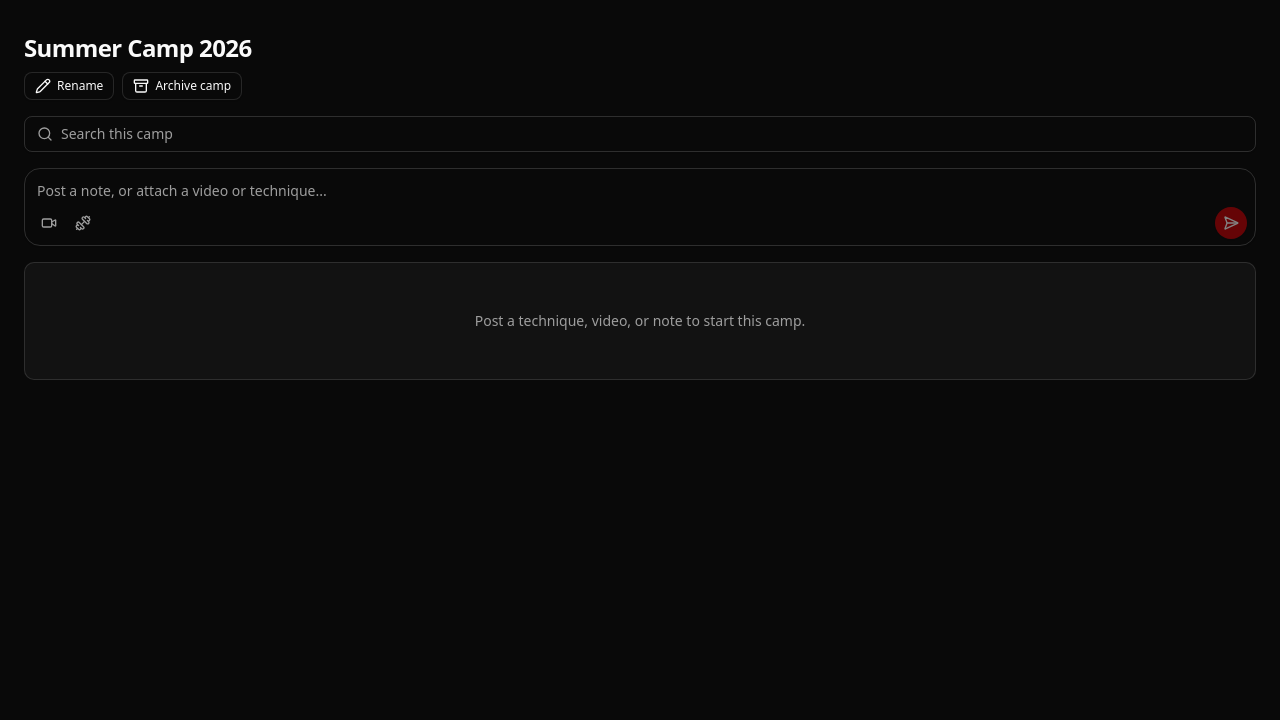
it: CampDetailPage components › coach picker shows both Pick existing and Create new tabs
Click the button named "attach technique" at (83, 223), box [67,207,99,239]
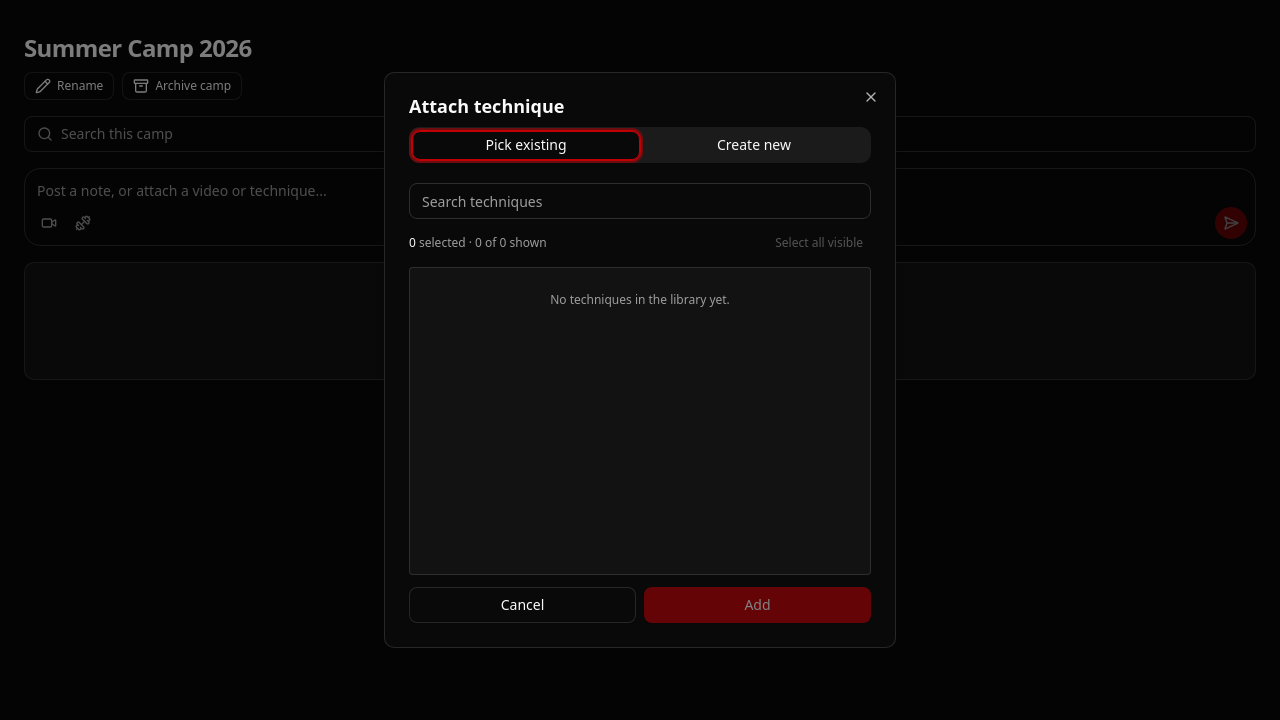
expect the tab "Pick existing" is shown: met, box [412,130,640,160]
expect the tab "Create new" is shown: met, box [640,130,868,160]
